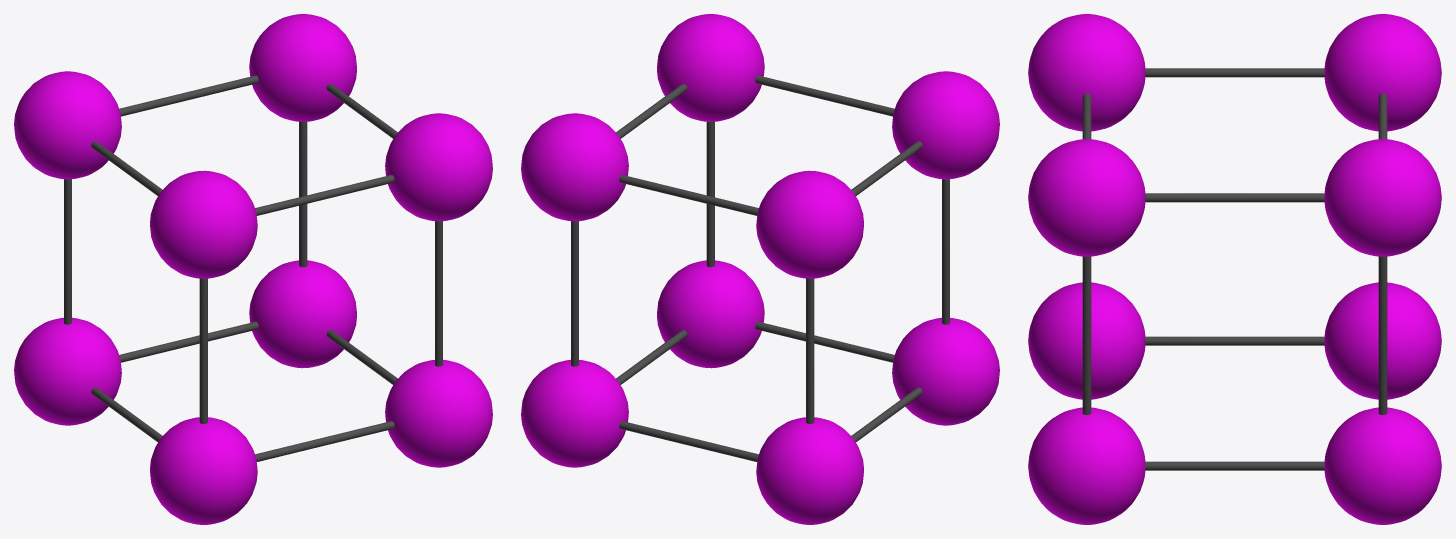
The picture shows the model from 3 angles, left to right: view 1: azimuth 30°, elevation 25°; view 2: azimuth 150°, elevation 25°; view 3: azimuth 270°, elevation 25°; orthographic projection. The views are drawn at different scales.
Parts seen in each view (by area): view 1: Sphere.002, Sphere.003, Sphere.001, Sphere.007, Sphere.005, Sphere, Sphere.004, Sphere.006, Cylinder.002, Cylinder.008, Cylinder.009, Cylinder.010 (+8 smaller); view 2: Sphere.005, Sphere.004, Sphere, Sphere.006, Sphere.002, Sphere.001, Sphere.003, Sphere.007, Cylinder.003, Cylinder.009, Cylinder.008, Cylinder.011 (+8 smaller); view 3: Sphere, Sphere.001, Sphere.006, Sphere.007, Sphere.002, Sphere.005, Sphere.003, Sphere.004, Cylinder.004, Cylinder.005, Cylinder.006, Cylinder.007 (+2 smaller).
Part boxes in pixels (x1,y1,x2,y2): Sphere.002: (150, 170, 257, 278); Sphere.003: (150, 417, 257, 524); Sphere.001: (385, 113, 492, 221); Sphere.007: (385, 359, 492, 467); Sphere.005: (14, 71, 121, 179); Sphere: (249, 14, 356, 121); Sphere.004: (14, 317, 121, 425); Sphere.006: (249, 260, 356, 368); Cylinder.002: (199, 278, 207, 423); Cylinder.008: (119, 75, 258, 116); Cylinder.009: (255, 175, 394, 215); Cylinder.010: (255, 421, 394, 461); Sphere.005: (756, 170, 863, 278); Sphere.004: (756, 417, 863, 524); Sphere: (521, 113, 628, 221); Sphere.006: (521, 359, 628, 467); Sphere.002: (892, 71, 999, 179); Sphere.001: (657, 14, 764, 121); Sphere.003: (892, 317, 999, 425); Sphere.007: (657, 260, 764, 368); Cylinder.003: (806, 278, 814, 423); Cylinder.009: (755, 75, 894, 116); Cylinder.008: (619, 175, 758, 215); Cylinder.011: (619, 421, 758, 461); Sphere: (1324, 139, 1441, 256); Sphere.001: (1028, 139, 1145, 256); Sphere.006: (1324, 407, 1441, 524); Sphere.007: (1028, 407, 1145, 524); Sphere.002: (1028, 14, 1145, 131); Sphere.005: (1324, 14, 1441, 131); Sphere.003: (1028, 282, 1145, 399); Sphere.004: (1324, 282, 1441, 399); Cylinder.004: (1145, 68, 1324, 77); Cylinder.005: (1145, 336, 1324, 345); Cylinder.006: (1145, 461, 1324, 470); Cylinder.007: (1145, 193, 1324, 202).
Size of the model in its own units: 2.8 by 2.8 by 2.8.
